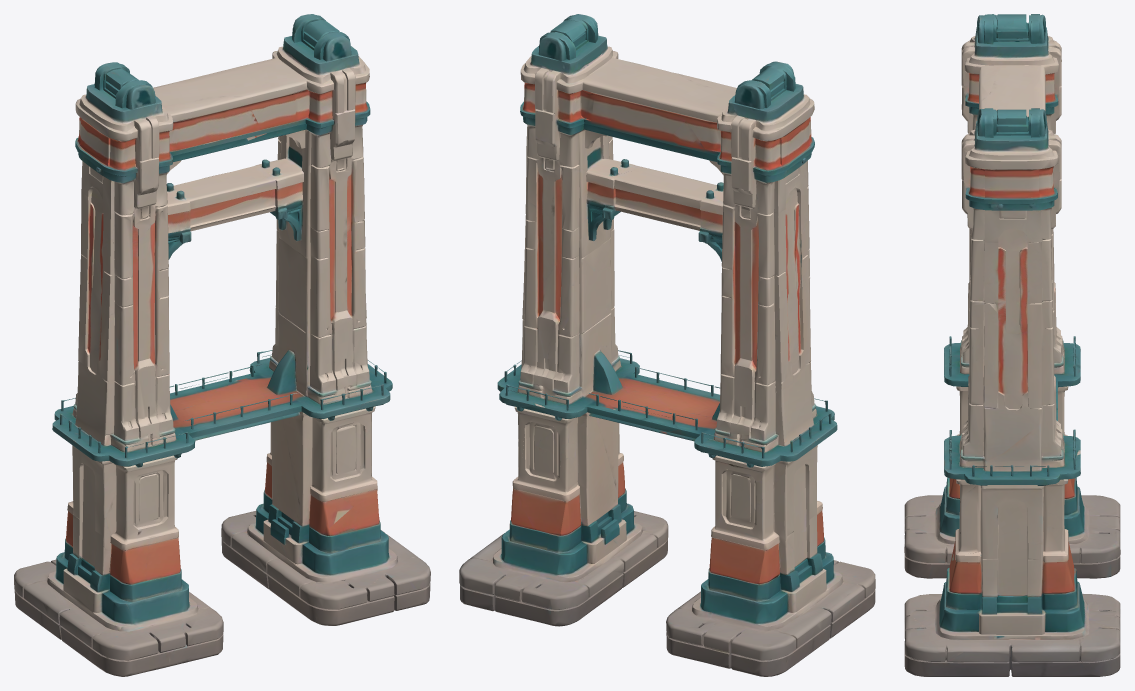
File: bridge-tower-desktop.glb
The picture shows the model from 3 angles, left to right: view 1: azimuth 30°, elevation 25°; view 2: azimuth 150°, elevation 25°; view 3: azimuth 270°, elevation 25°; orthographic projection. The views are drawn at different scales.
Parts seen in each view (by area): view 1: model; view 2: model; view 3: model.
Boxes of the visible parts, <box> form: model: <box>14,14,430,676</box>; model: <box>459,14,875,676</box>; model: <box>904,14,1120,676</box>.
Size of the model in its own units: 1.18 by 1.9 by 0.6926.
1 material, 1 textured.
